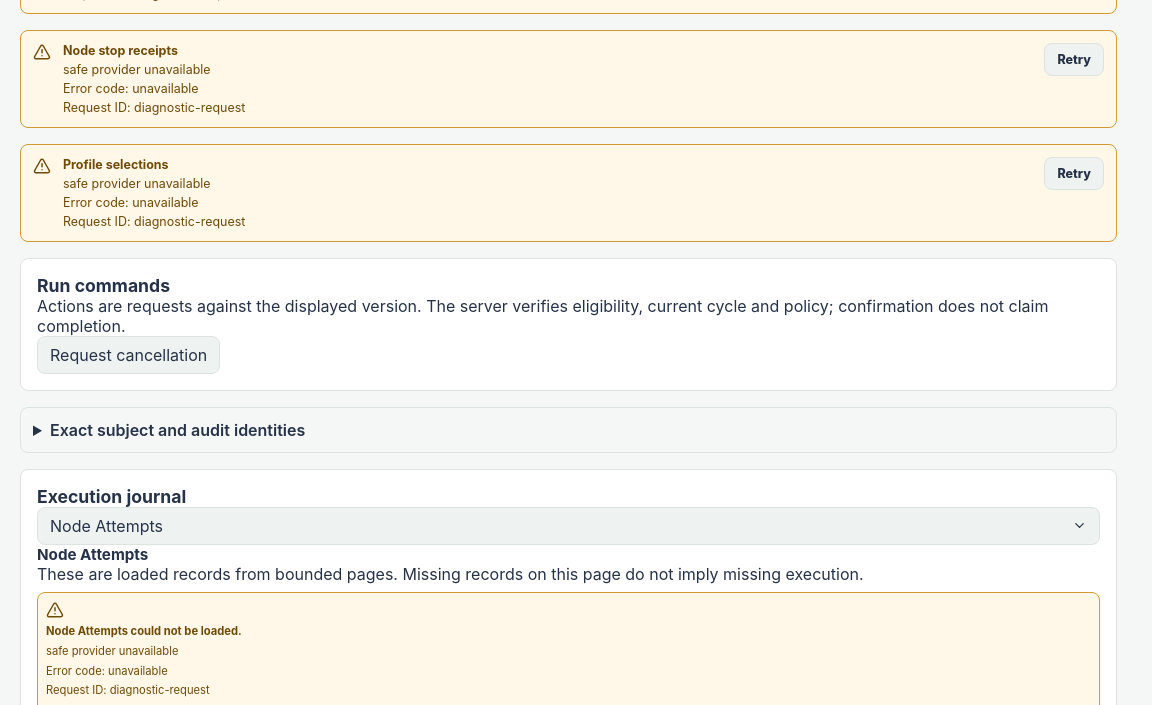
it: keeps Run cancellation usable when provider-scoped diagnostics are unavailable
(page scrolled)
Click the button "Request cancellation": {"x": 129, "y": 355} x1=37 y1=336 x2=220 y2=374
(page scrolled)
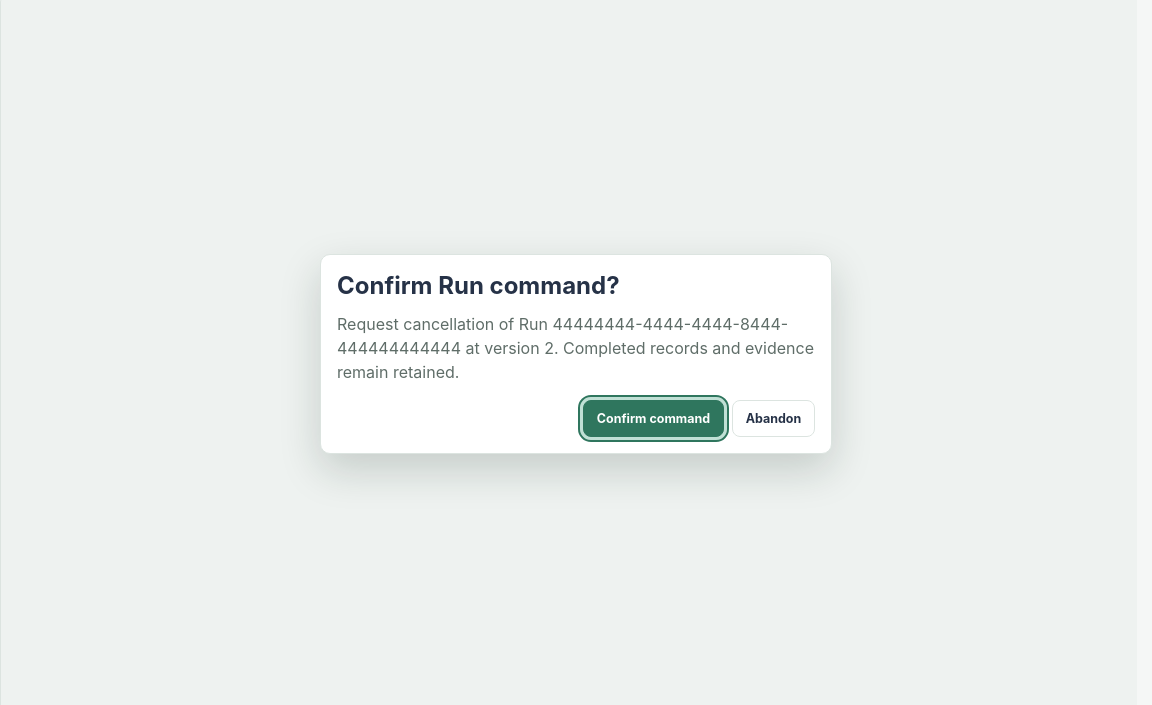
expect the dialog "Confirm Run command?" is shown: met, box x1=320 y1=254 x2=832 y2=454
